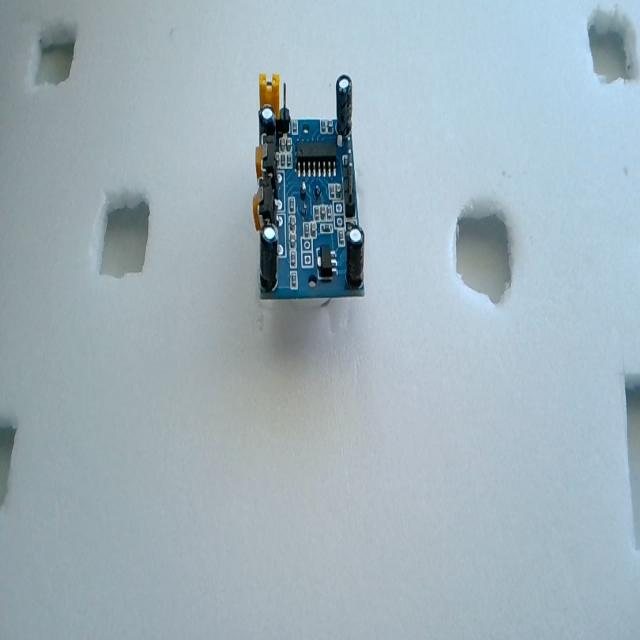Electrolytic capacitor: (346, 226, 365, 288), (260, 225, 278, 290), (336, 73, 352, 138), (258, 104, 276, 141)
IC: (296, 140, 337, 177)
pinheader: (335, 75, 357, 224)
